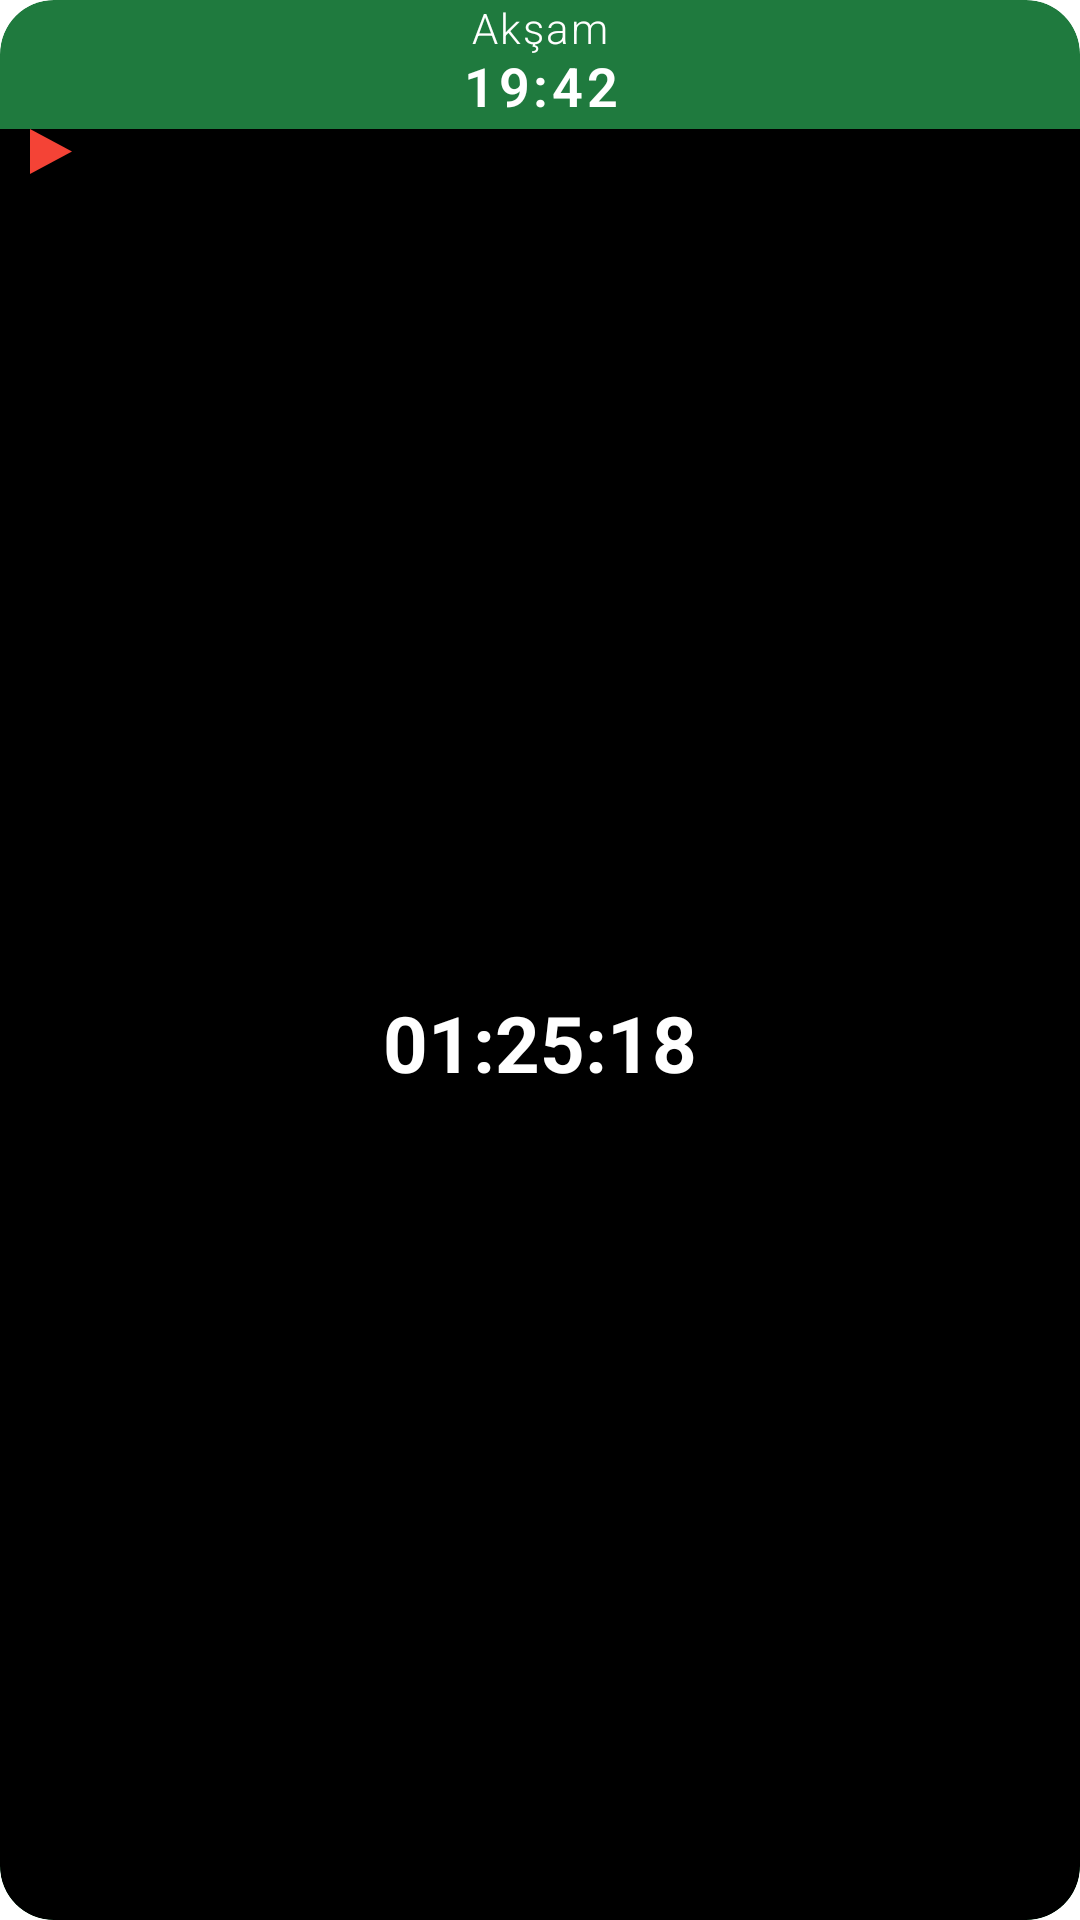

Named icons in this screenshot (1080x1920) and their centers, (x=x, y=y):
prayer widget arrow head: (x=51, y=151)
